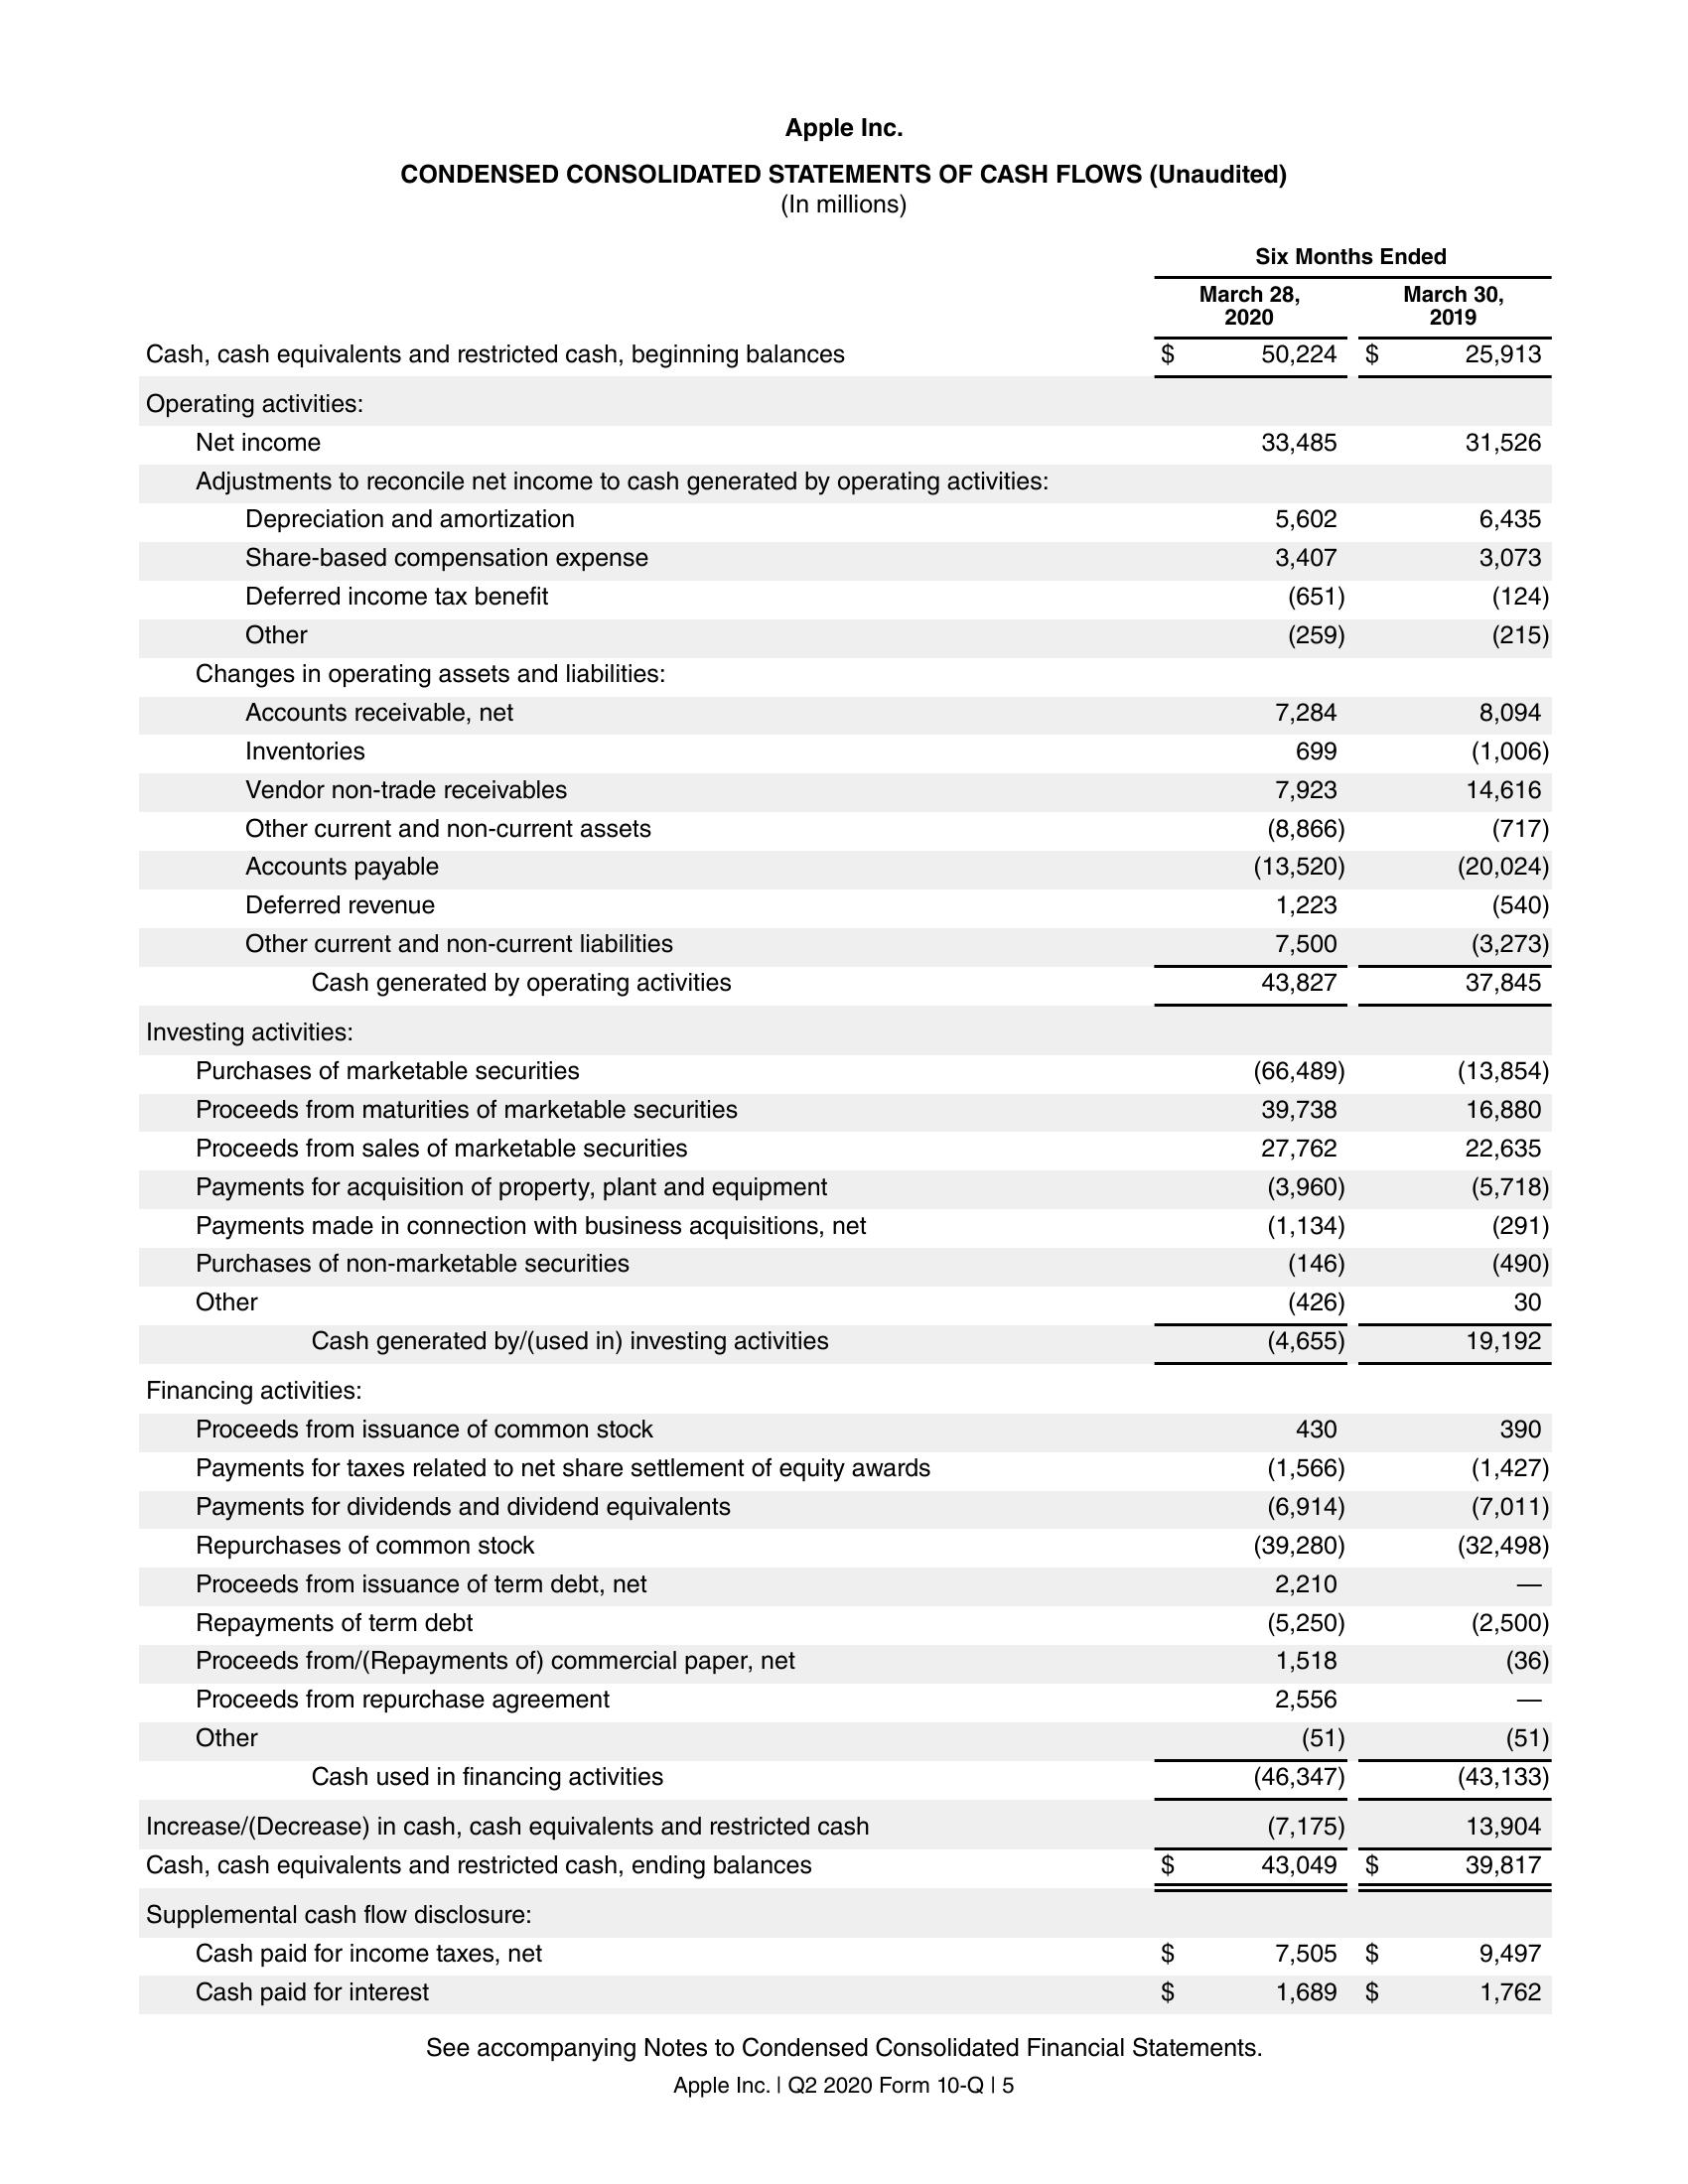table: (142, 241, 1557, 2014)
